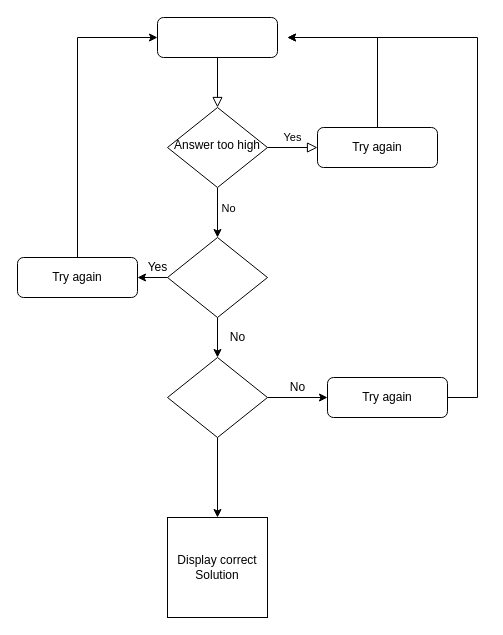
The diagram is 503 pixels wide and 635 high, and some of its shapes have lost their labels. Each missing label, with the box of its shape:
3rd incorrect Answer: (166, 356, 268, 438)
Answer too low: (166, 236, 268, 318)
Compute Answer: (156, 16, 278, 58)
